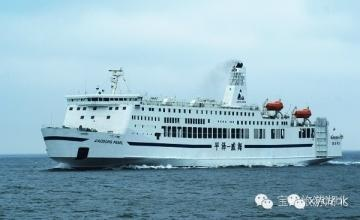youlun: (32, 54, 349, 173)
